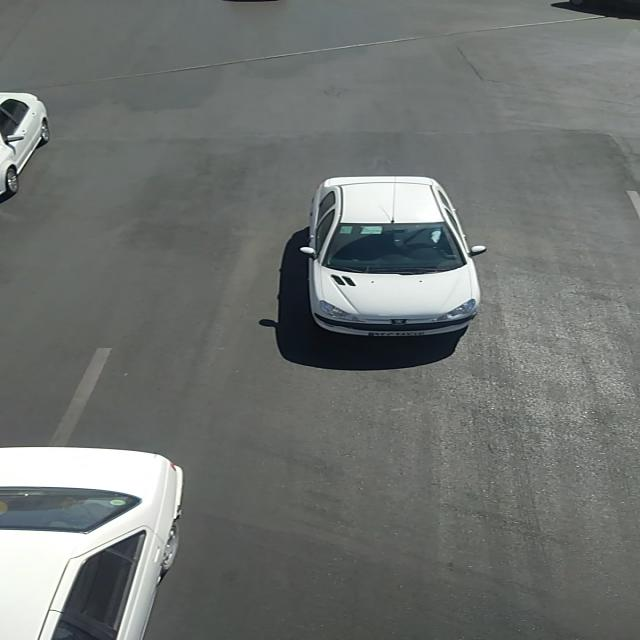car: (302, 175, 487, 339), (1, 90, 53, 200)
